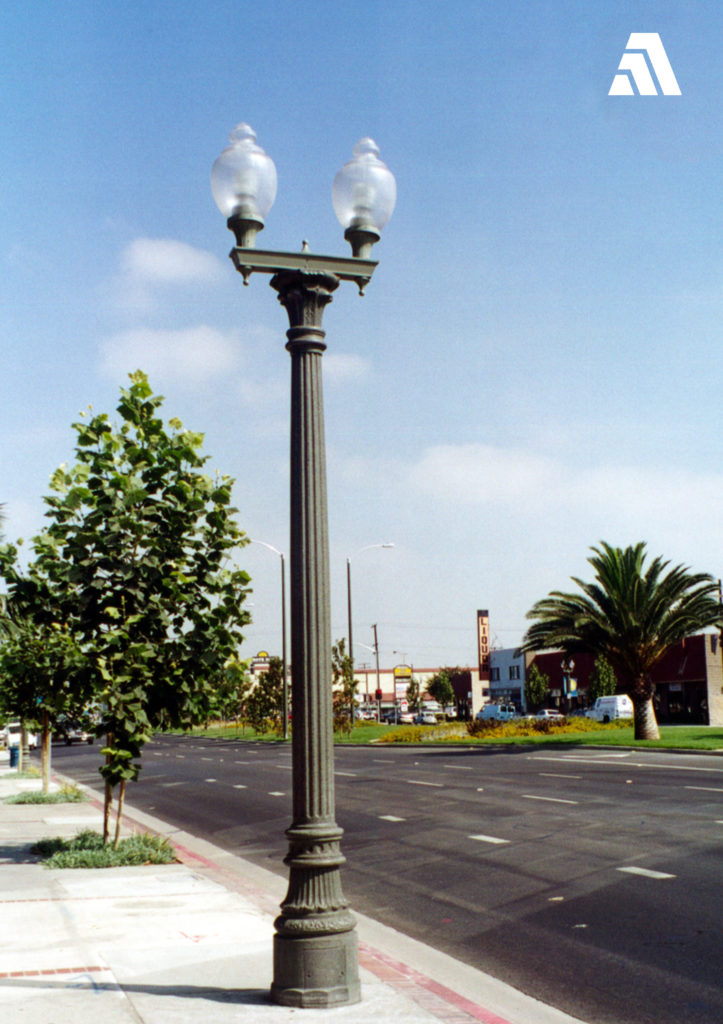Arbol: (1, 355, 241, 860)
Poste: (212, 130, 399, 1013)
